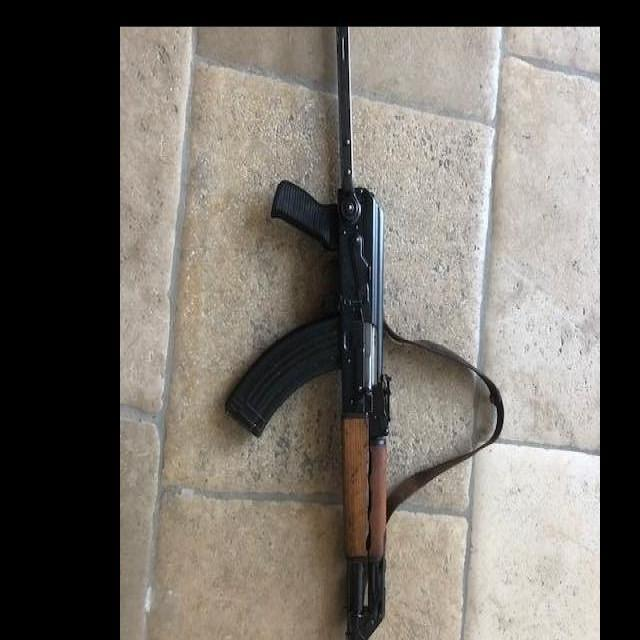weapon: (222, 24, 392, 640)
